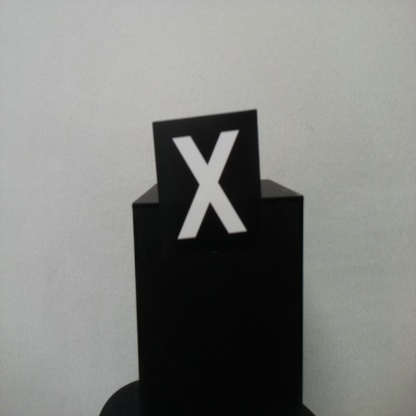id_13: (152, 121, 263, 262)
